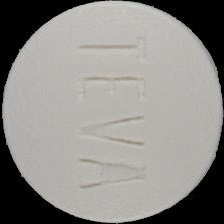42254-204: (0, 0, 224, 224)
